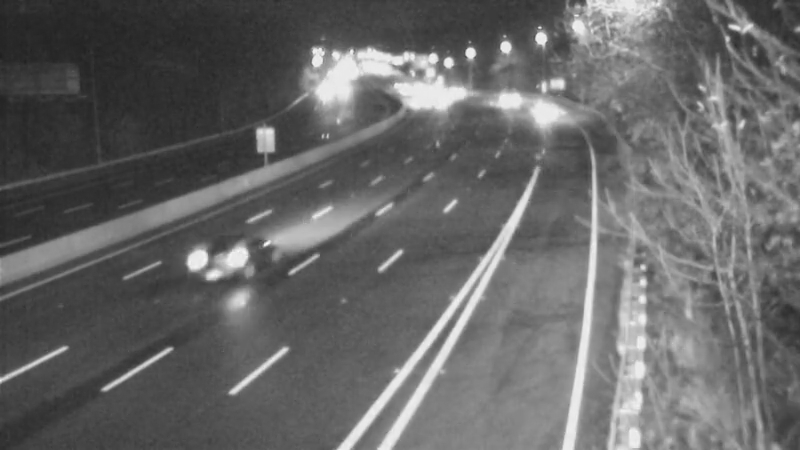vehicle: (169, 228, 249, 308), (484, 72, 534, 122), (515, 87, 565, 137)
